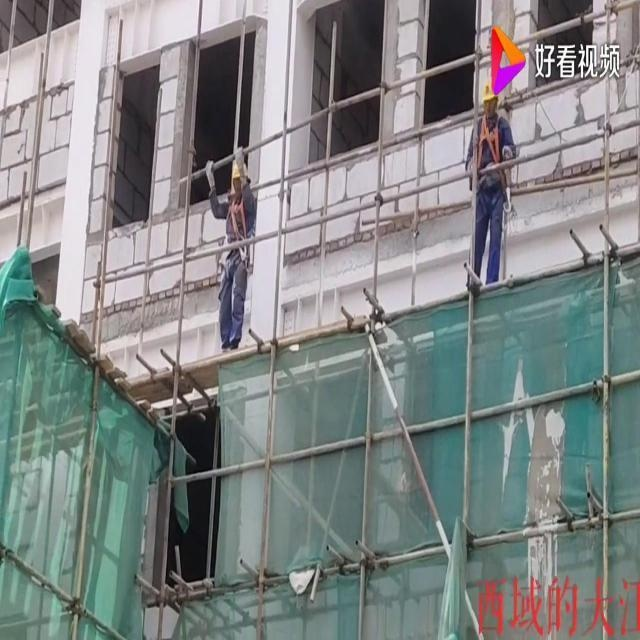Arnes_seguridad: (477, 111, 503, 170), (226, 190, 250, 242)
